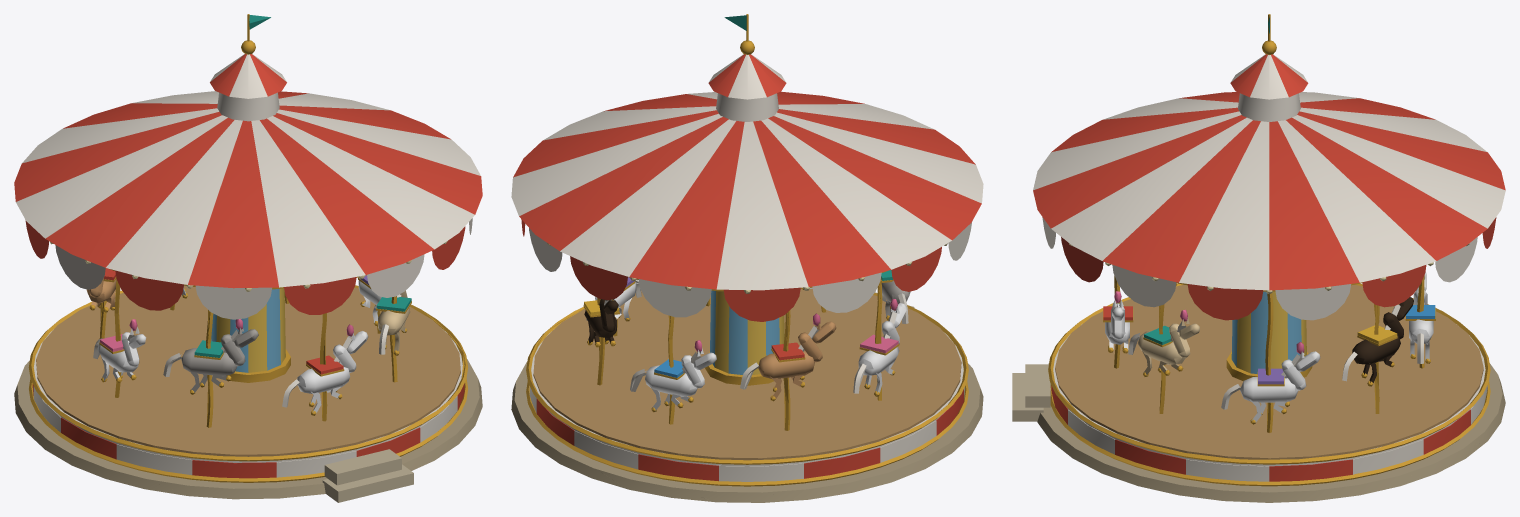
File: carousel.glb
3 renders of one model, left to right at view 1: azimuth 30°, elevation 25°; view 2: azimuth 150°, elevation 25°; view 3: azimuth 270°, elevation 25°, orthographic.
Parts seen in each view (by area): view 1: decor-carousel, decor-carousel-far; view 2: decor-carousel, decor-carousel-far; view 3: decor-carousel, decor-carousel-far.
Boxes of the visible parts, left/top/right/bottom form: decor-carousel: left=14, top=14, right=482, bottom=502; decor-carousel-far: left=26, top=116, right=472, bottom=502; decor-carousel: left=511, top=14, right=983, bottom=502; decor-carousel-far: left=521, top=120, right=971, bottom=427; decor-carousel: left=1012, top=14, right=1505, bottom=502; decor-carousel-far: left=1012, top=120, right=1494, bottom=474.
Size of the model in its own units: 7.5 by 6.8 by 7.83.
